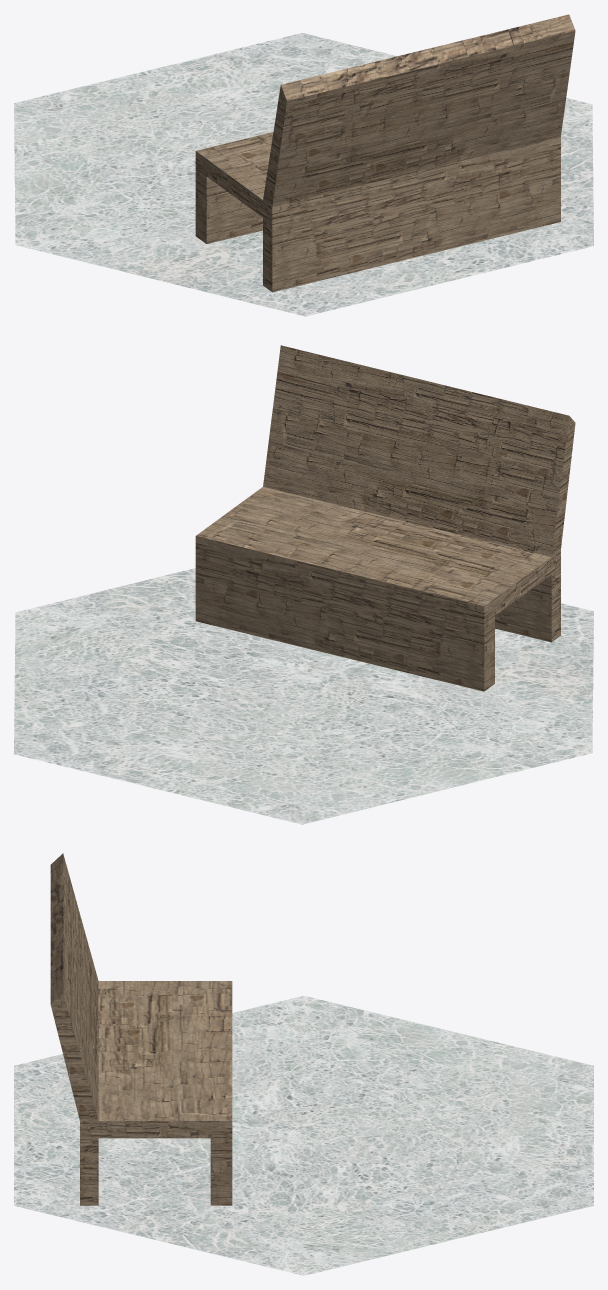
The model's file is tempel_floor_GEO_01.fbx.
3 views of the same model, one above another, from view 1: azimuth 30°, elevation 25°; view 2: azimuth 150°, elevation 25°; view 3: azimuth 270°, elevation 25° (orthographic).
Visible parts, largest first — view 1: temple_GE0_01; view 2: temple_GE0_01; view 3: temple_GE0_01.
Part boxes in pixels (x1,y1,x2,y2): temple_GE0_01: (14, 14, 593, 316); temple_GE0_01: (14, 345, 593, 824); temple_GE0_01: (14, 853, 593, 1275).
Size of the model in its own units: 2 by 0.7079 by 1.75.
Materials: 2 (2 with a texture image).
